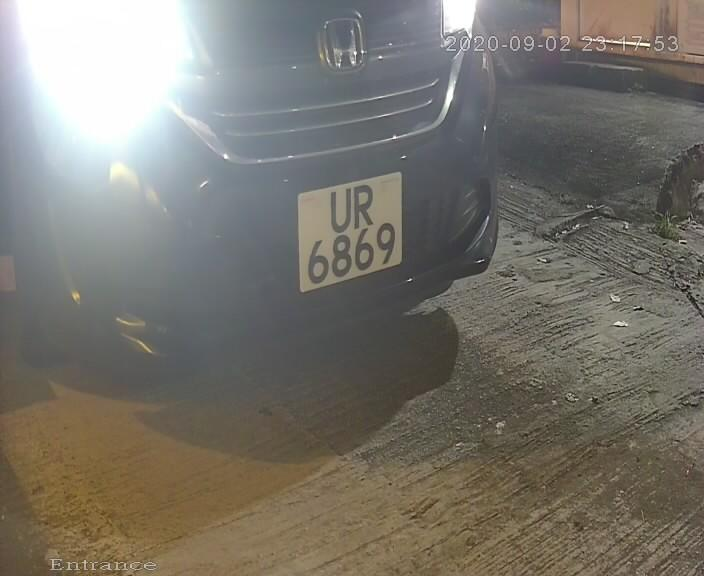License Plate: (290, 163, 406, 304)
